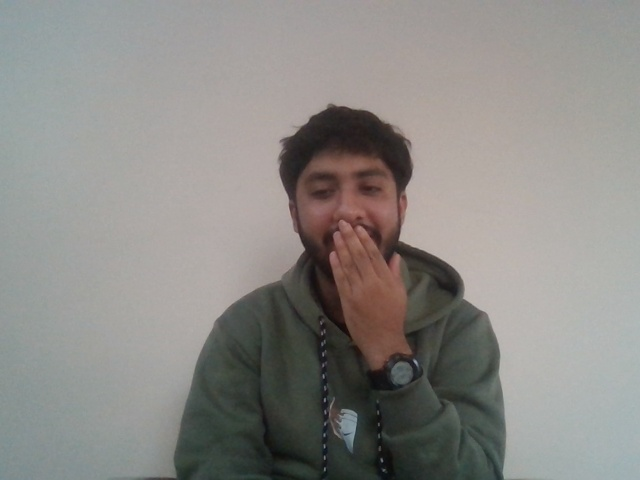Thanks: (280, 212, 464, 342)
